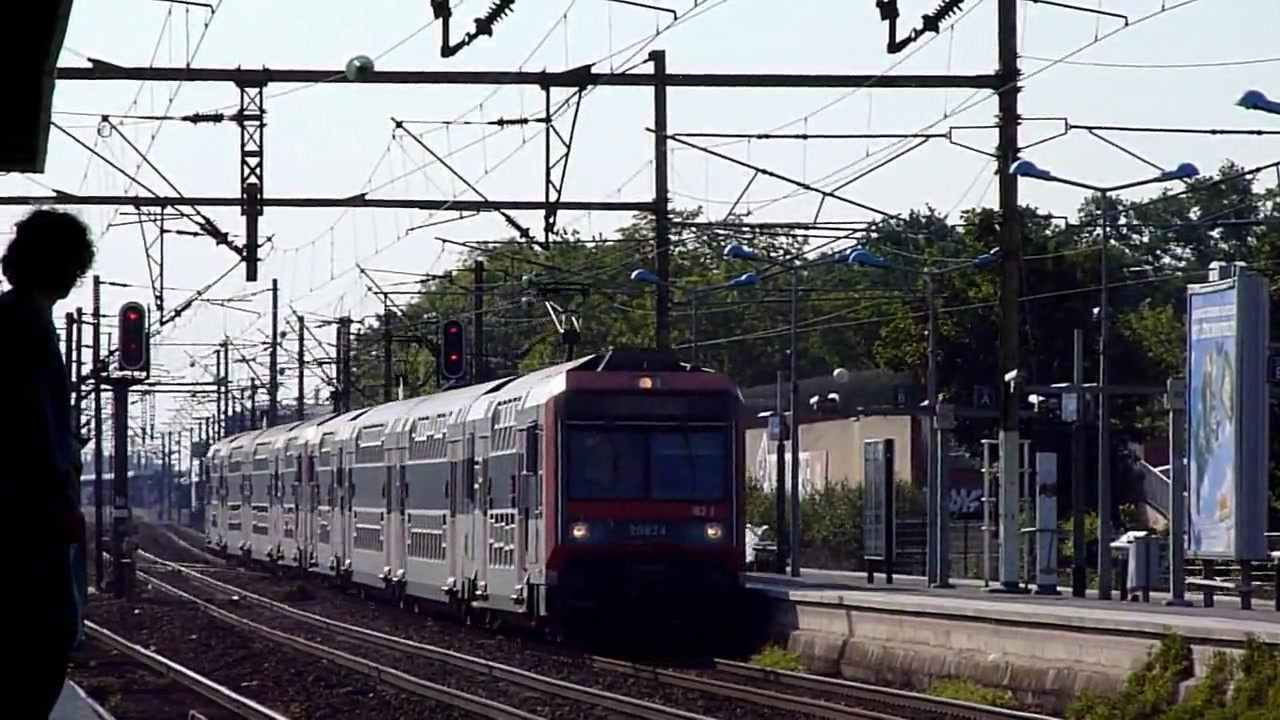train: (190, 346, 752, 634)
